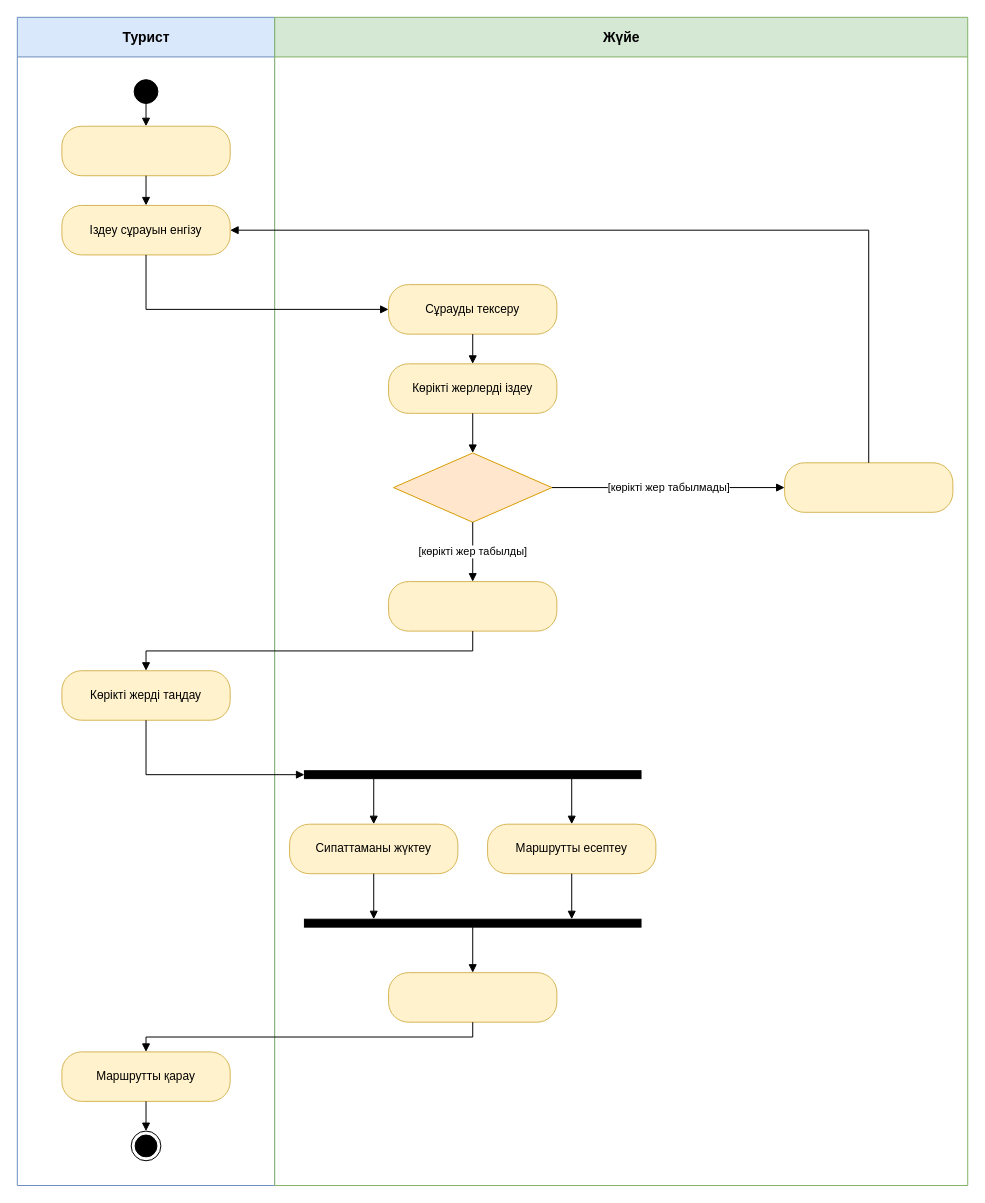
The diagram is 985 pixels wide and 1203 high, and some of its shapes have lost their labels. Each missing label, with the centre of its shape:
"Маршрутты картада көрсету" belongs at point (472, 997).
"Табылды ма?" belongs at point (472, 487).
"Табылған тізімді көрсету" belongs at point (472, 606).
"Қате туралы хабар көрсету" belongs at point (868, 487).
"Қосымшаны ашу" belongs at point (145, 150).
